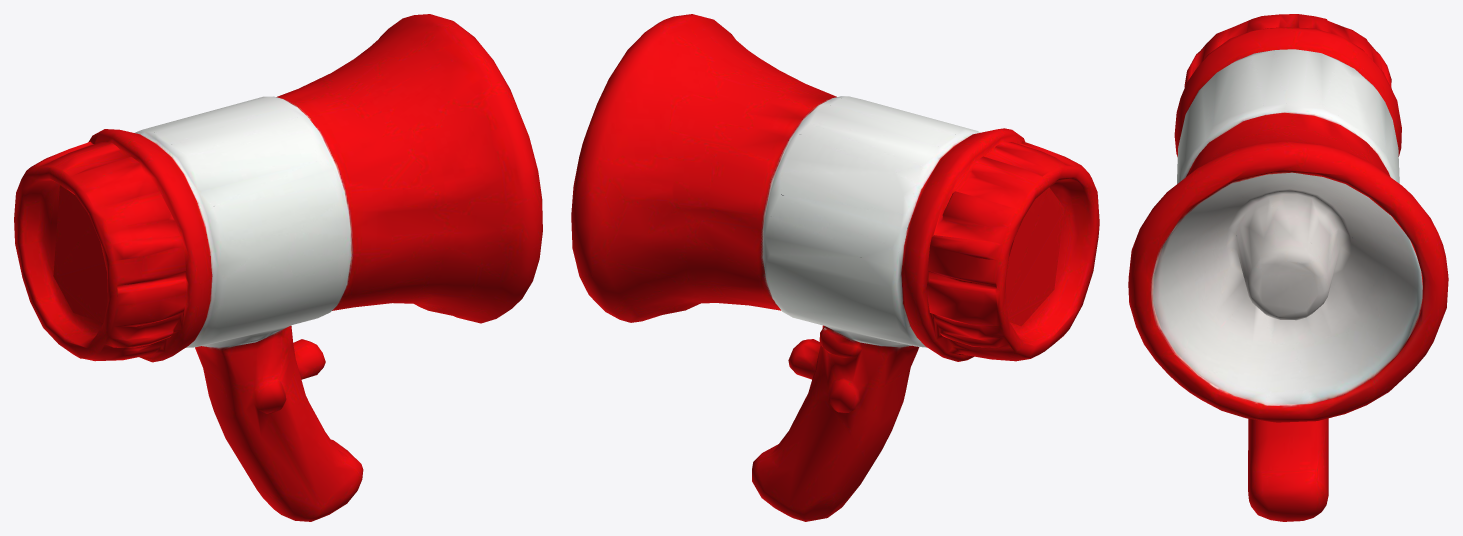
The model's file is megaphone.glb.
3 views of the same model, side by side, from view 1: azimuth 30°, elevation 25°; view 2: azimuth 150°, elevation 25°; view 3: azimuth 270°, elevation 25° (orthographic). The views are drawn at different scales.
Parts seen in each view (by area): view 1: low; view 2: low; view 3: low.
Boxes of the visible parts, box(x1,y1,x2,y2) form: low: box(14, 14, 542, 521); low: box(571, 14, 1099, 521); low: box(1128, 14, 1448, 521).
Bounding box in the file's own units: 0.916 × 0.9801 × 0.6413.
Materials: 1 (1 with a texture image).
